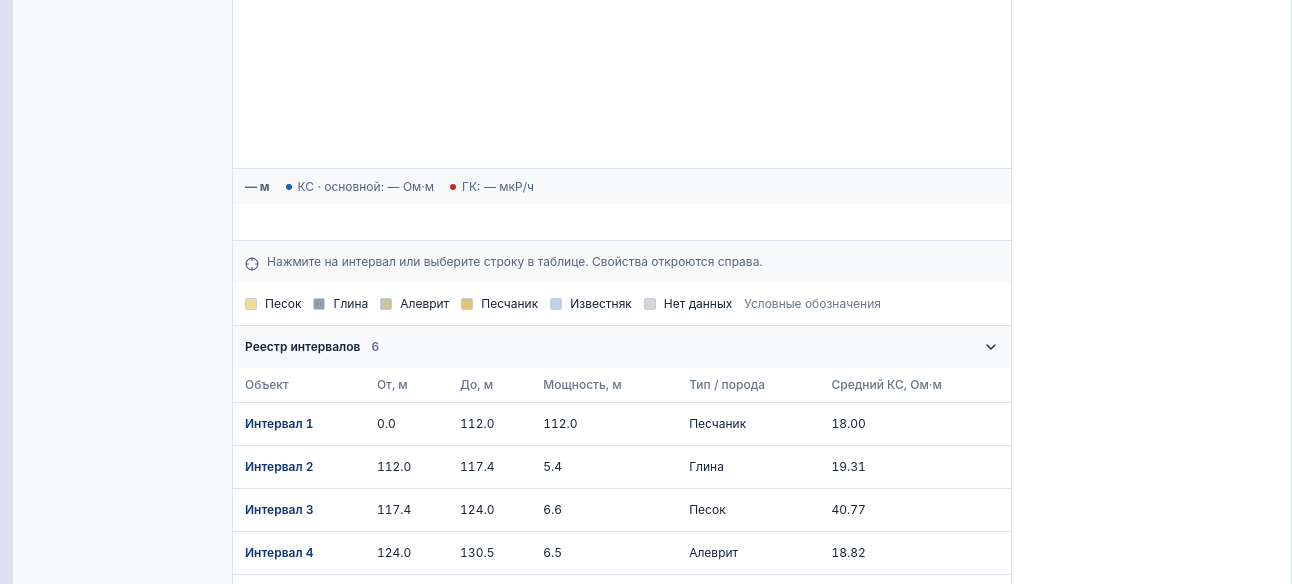
Test case: interpretation prototype workbench › renders the actual Canvas package, edits neighbours, undoes and saves a result
(page scrolled)
Click the button "Интервал 2". click: x=279, y=467
box: x1=245 y1=454 x2=314 y2=480
(page scrolled)
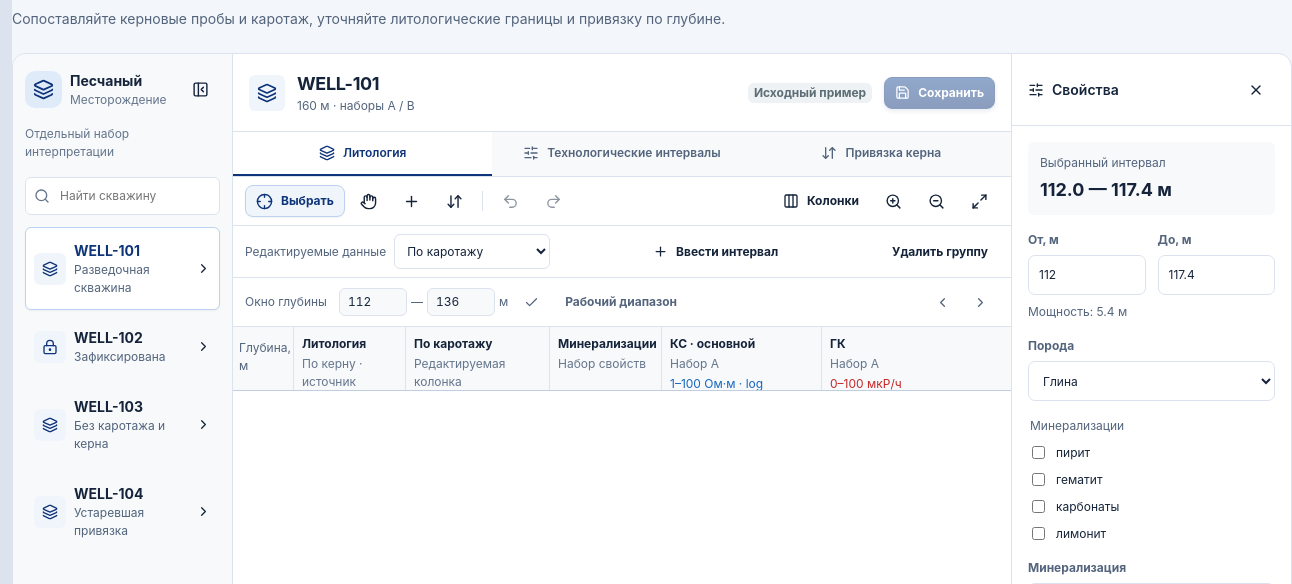
Replace the text in the number field labelled "До, м" with "118.2". click: x=1216, y=275
box: x1=1158 y1=255 x2=1275 y2=295
(page scrolled)
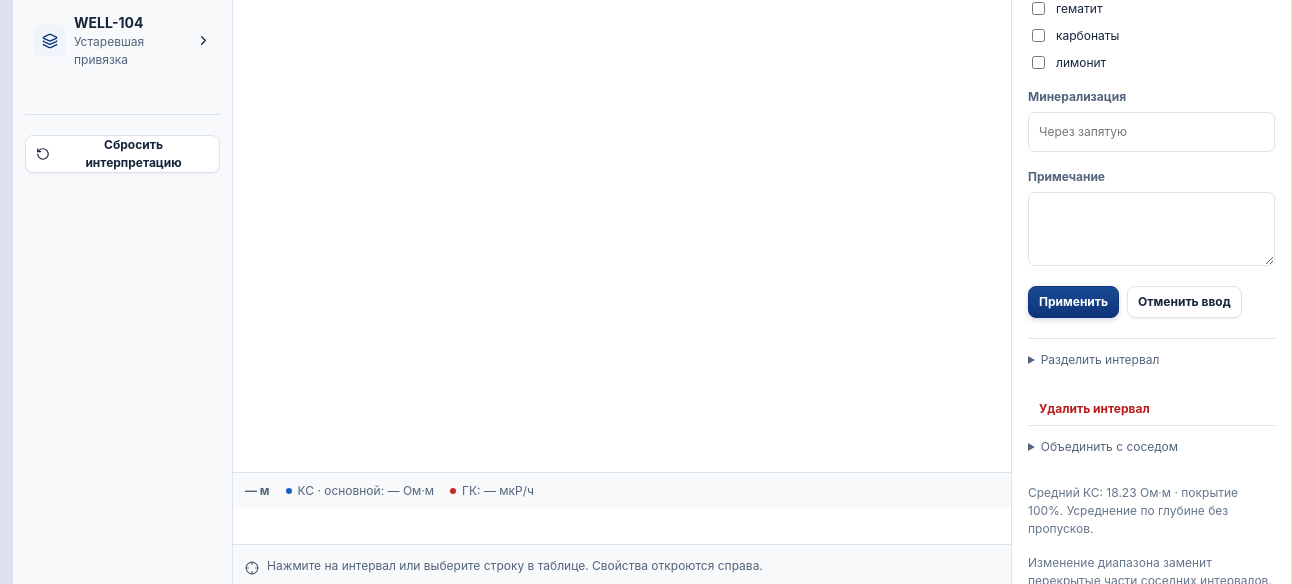
Click the button "Применить". click: x=1074, y=302
box: x1=1028 y1=286 x2=1119 y2=318
(page scrolled)
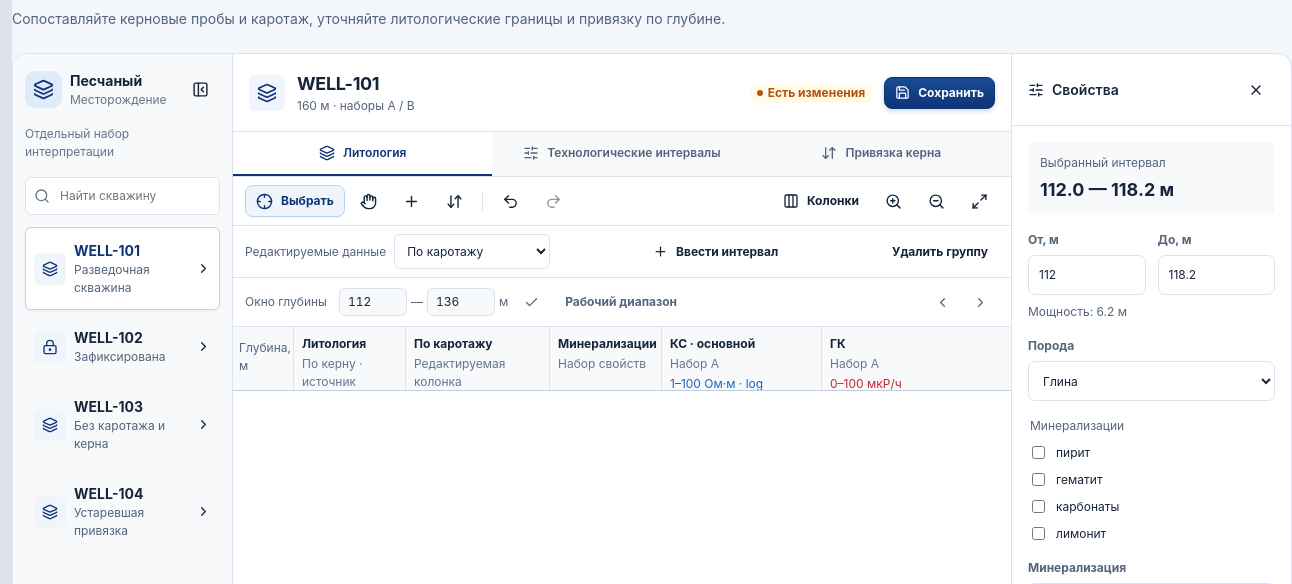
Check: the number field labelled "До, м" holds "118.2", box x1=1158 y1=255 x2=1275 y2=295
Click the button named "Отменить действие". click: x=510, y=201
box: x1=491 y1=185 x2=530 y2=217
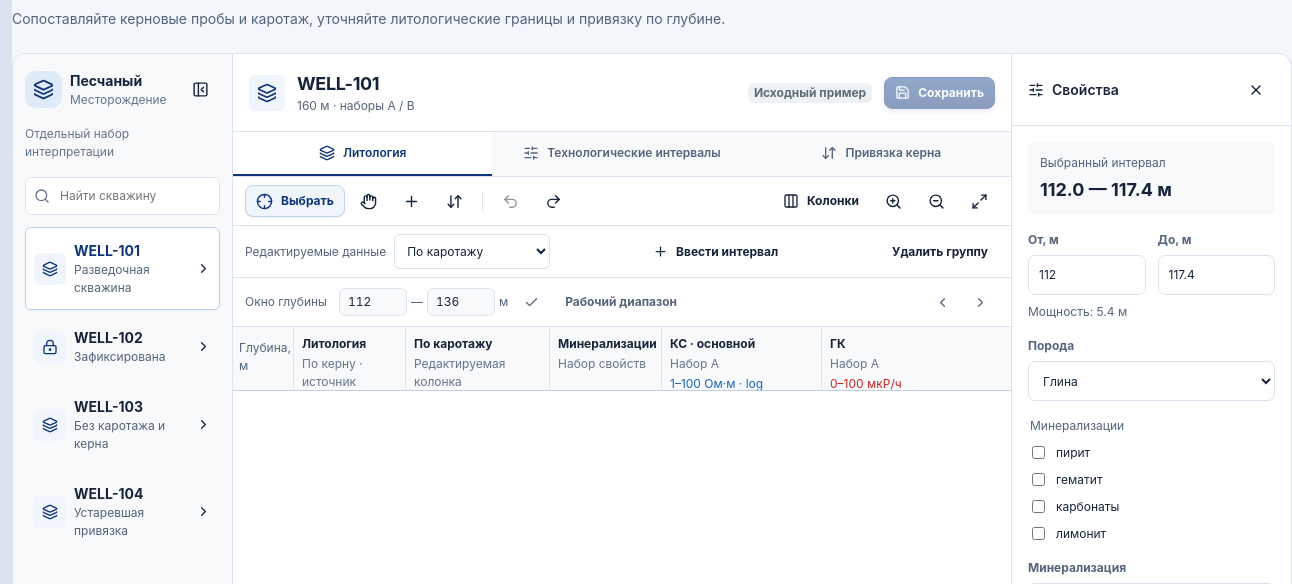
Check: the number field labelled "До, м" holds "117.4", box x1=1158 y1=255 x2=1275 y2=295
Click the button named "Повторить действие". click: x=553, y=201
box: x1=534 y1=185 x2=573 y2=217
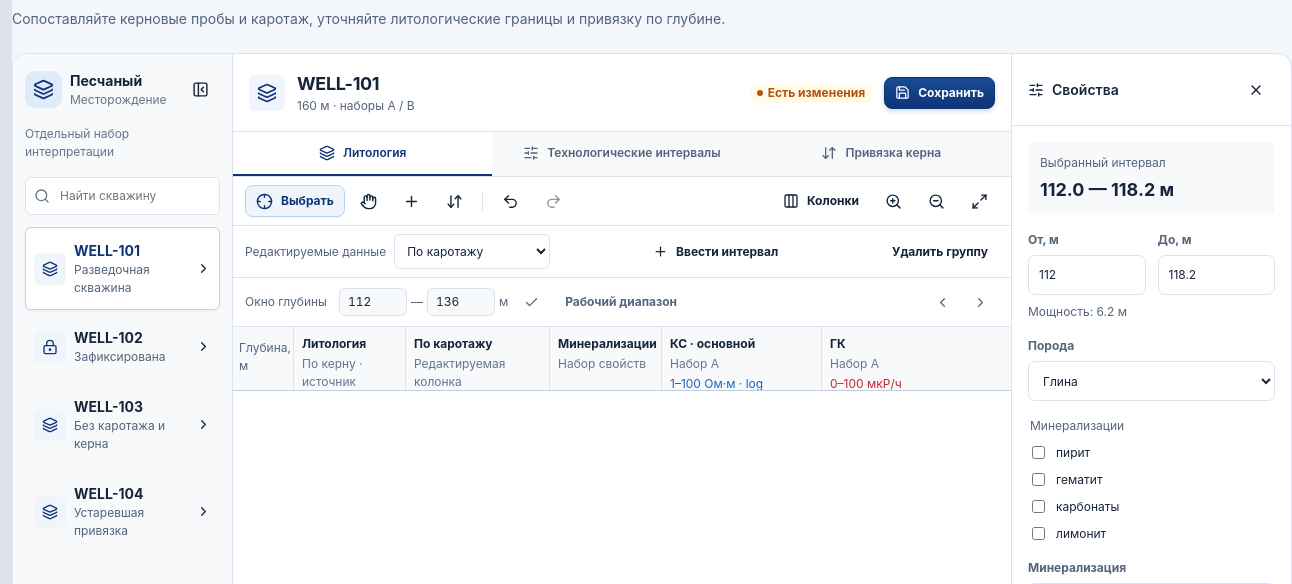
Click the button "Сохранить". click: x=940, y=93
box: x1=884 y1=77 x2=995 y2=109
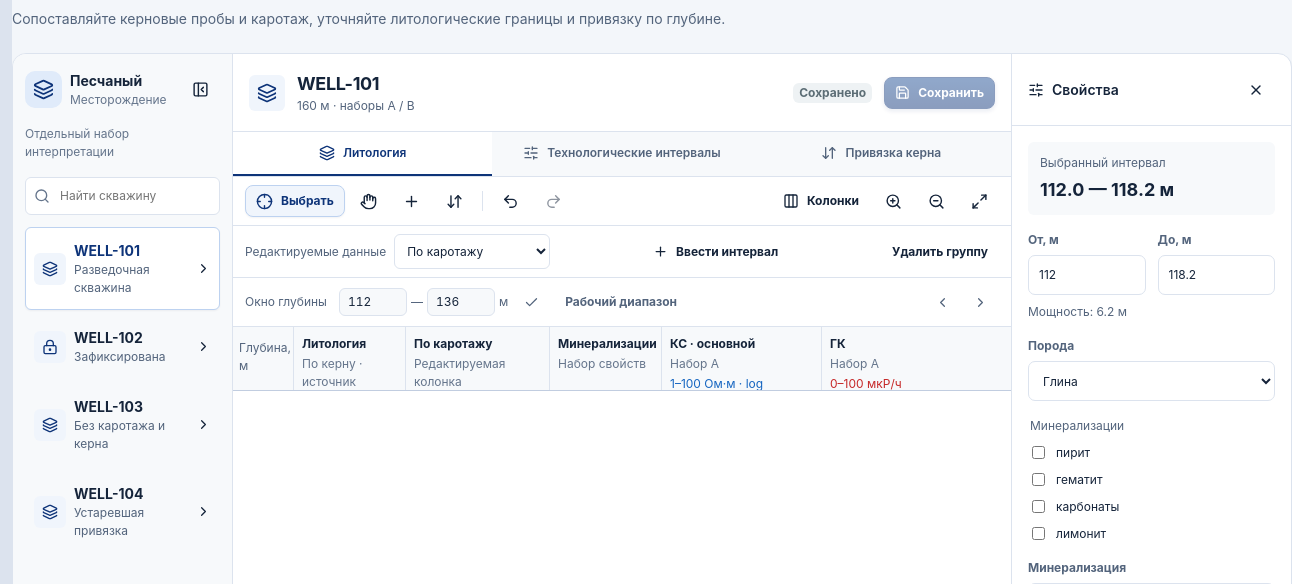
Check: the button "Сохранить" is disabled, box x1=884 y1=77 x2=995 y2=109
